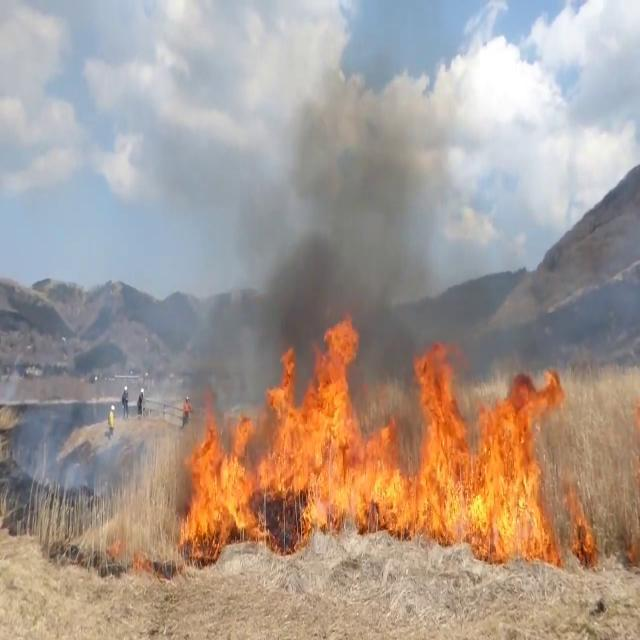Fire: (175, 314, 573, 554)
Smoke: (172, 78, 456, 390)
